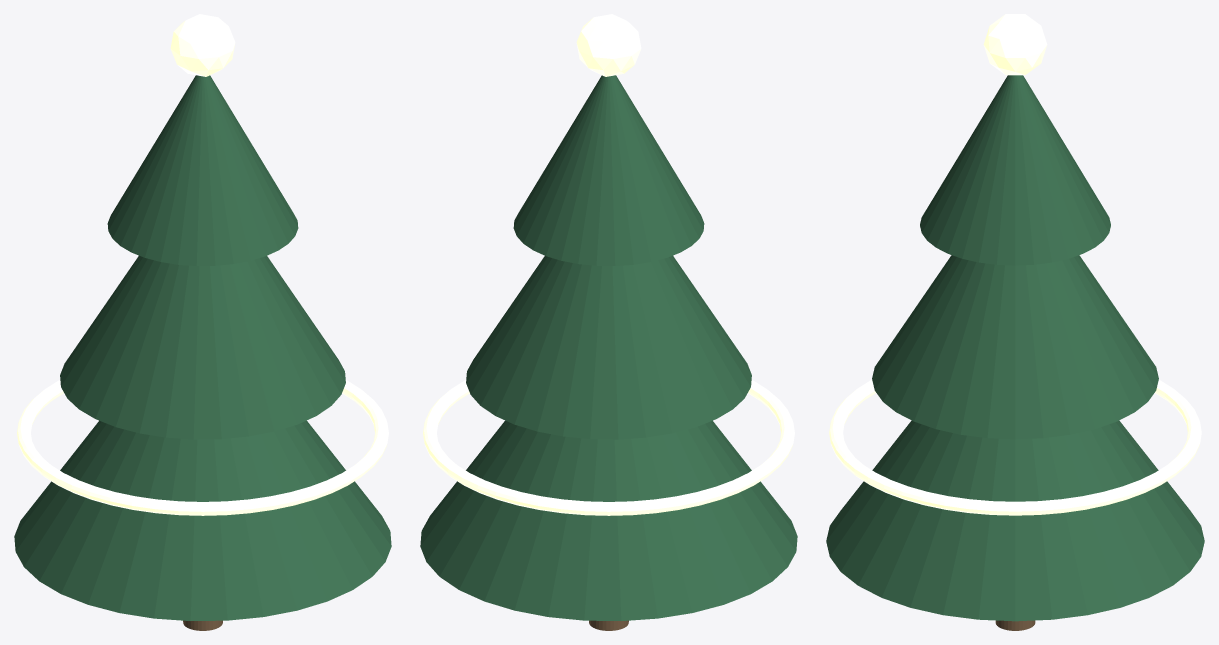
Rendered from Tree.glb.
The picture shows the model from 3 angles, left to right: view 1: azimuth 30°, elevation 25°; view 2: azimuth 150°, elevation 25°; view 3: azimuth 270°, elevation 25°; orthographic projection.
Visible parts, largest first — view 1: TreeCone1, TreeCone2, TreeCone3, TreeRing, TreeStar; view 2: TreeCone1, TreeCone2, TreeCone3, TreeRing, TreeStar; view 3: TreeCone1, TreeCone2, TreeCone3, TreeRing, TreeStar.
Part boxes in pixels (<box>): TreeCone1: <box>14,420,391,620</box>; TreeCone2: <box>60,255,345,439</box>; TreeCone3: <box>107,75,298,265</box>; TreeRing: <box>17,380,388,515</box>; TreeStar: <box>170,14,235,76</box>; TreeCone1: <box>420,420,797,620</box>; TreeCone2: <box>466,255,751,439</box>; TreeCone3: <box>513,75,704,265</box>; TreeRing: <box>423,380,794,515</box>; TreeStar: <box>576,14,641,76</box>; TreeCone1: <box>826,420,1204,621</box>; TreeCone2: <box>872,255,1158,439</box>; TreeCone3: <box>920,75,1110,265</box>; TreeRing: <box>829,380,1201,515</box>; TreeStar: <box>983,14,1047,75</box>.
Size of the model in its own units: 1.9 by 3.36 by 1.9.
